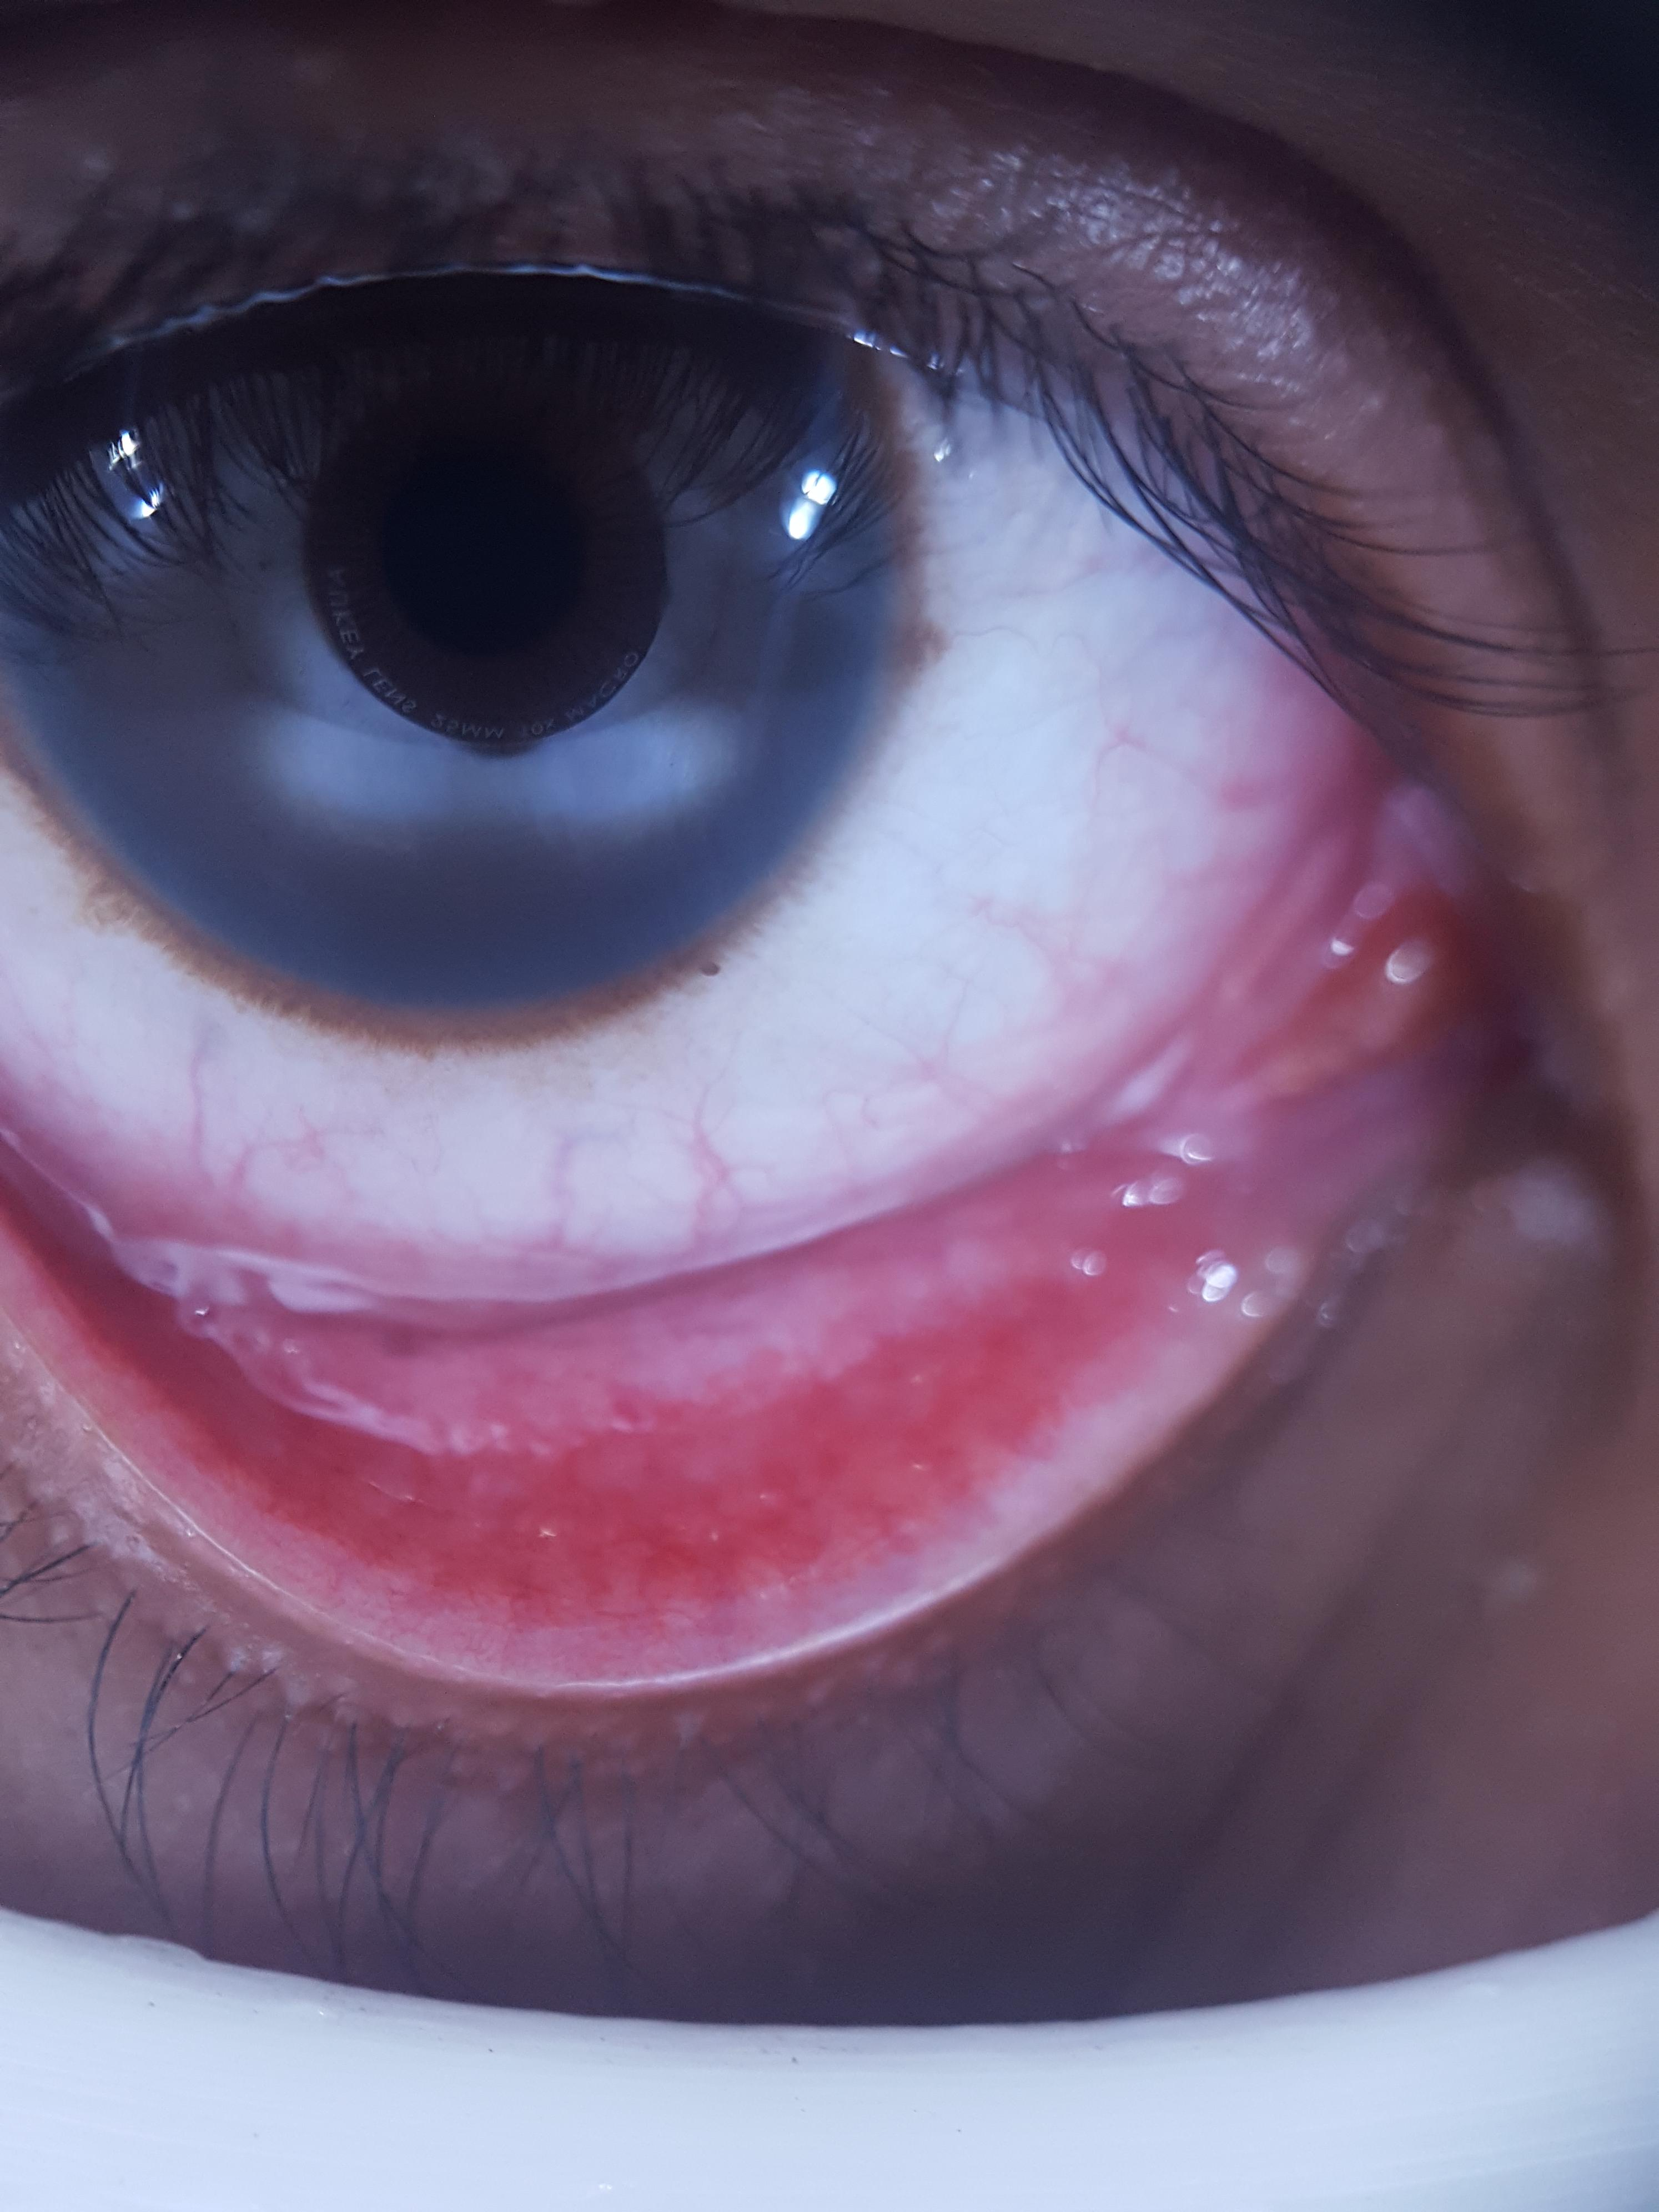forniceal: (98, 954, 1401, 1432)
forniceal_palpebral: (0, 939, 1429, 1637)
palpebral: (0, 1144, 1263, 1627)
